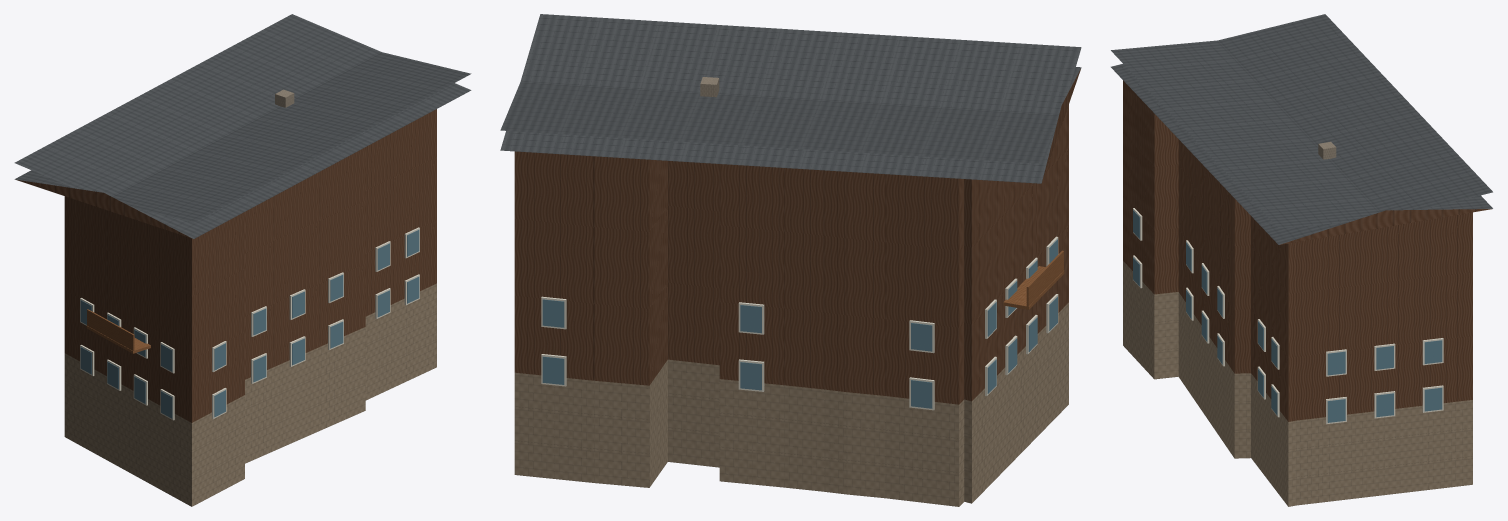
The model's file is core_0116.gltf.
3 views of the same model, side by side, from view 1: azimuth 30°, elevation 25°; view 2: azimuth 150°, elevation 25°; view 3: azimuth 270°, elevation 25° (orthographic). The views are drawn at different scales.
Visible parts, largest first — view 1: core_0116; view 2: core_0116; view 3: core_0116.
Boxes of the visible parts, <box> form: core_0116: <box>14,14,471,506</box>; core_0116: <box>500,14,1081,506</box>; core_0116: <box>1111,14,1492,506</box>.
Size of the model in its own units: 27.61 by 17.75 by 20.84.
Materials: 7 (7 with a texture image).
